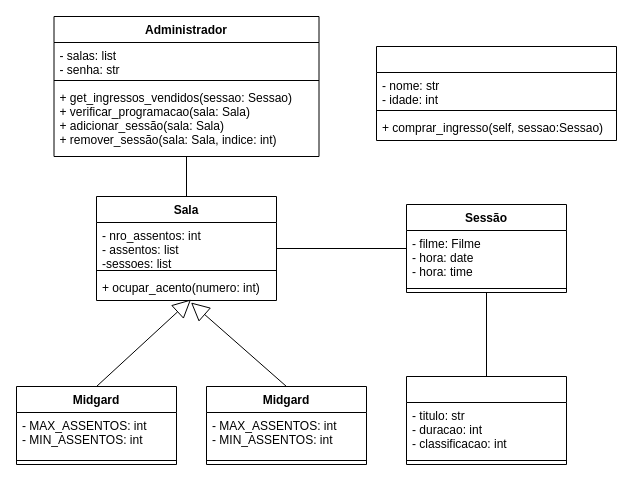
The diagram is 633 pixels wide and 481 high, and some of its shapes have lost their labels. Here are the shapes that lost their labels. From the top down, the box of each, then its label:
(376, 46, 616, 140): Guerreiro
(406, 376, 566, 464): Filme
